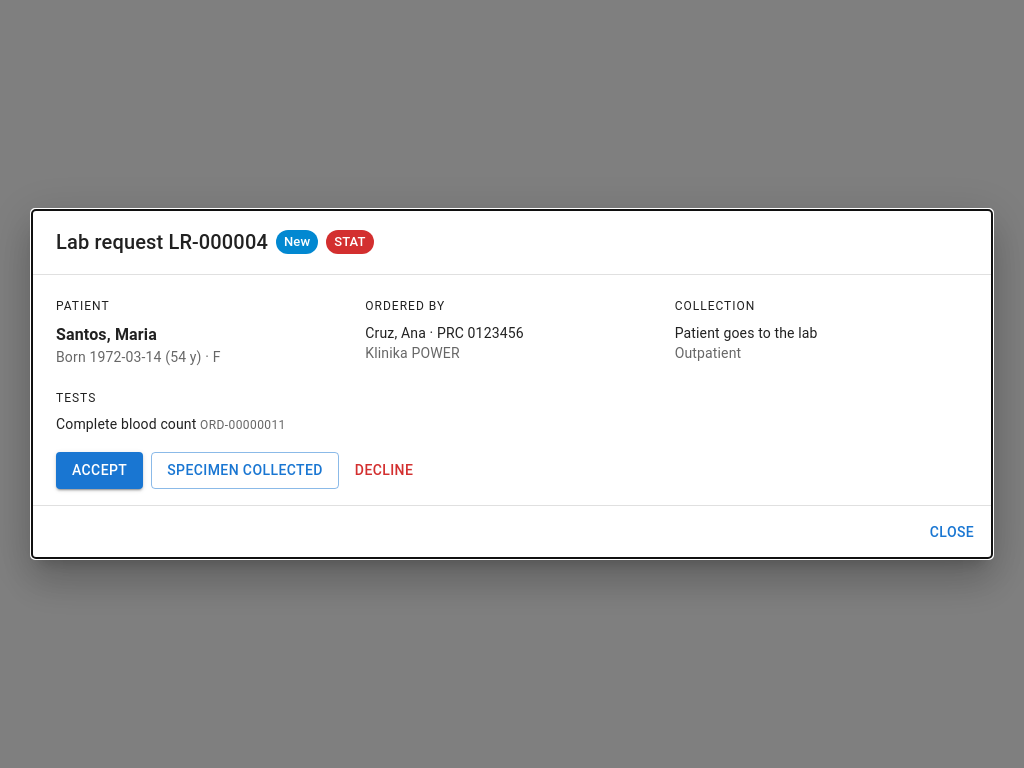
a lab request › a new request can be accepted, collected or declined
Expected: the button with test id "lab-collect" is shown, [151, 452, 339, 489]
Click the button with test id "lab-accept".
click(100, 471)  # box [56, 452, 143, 489]
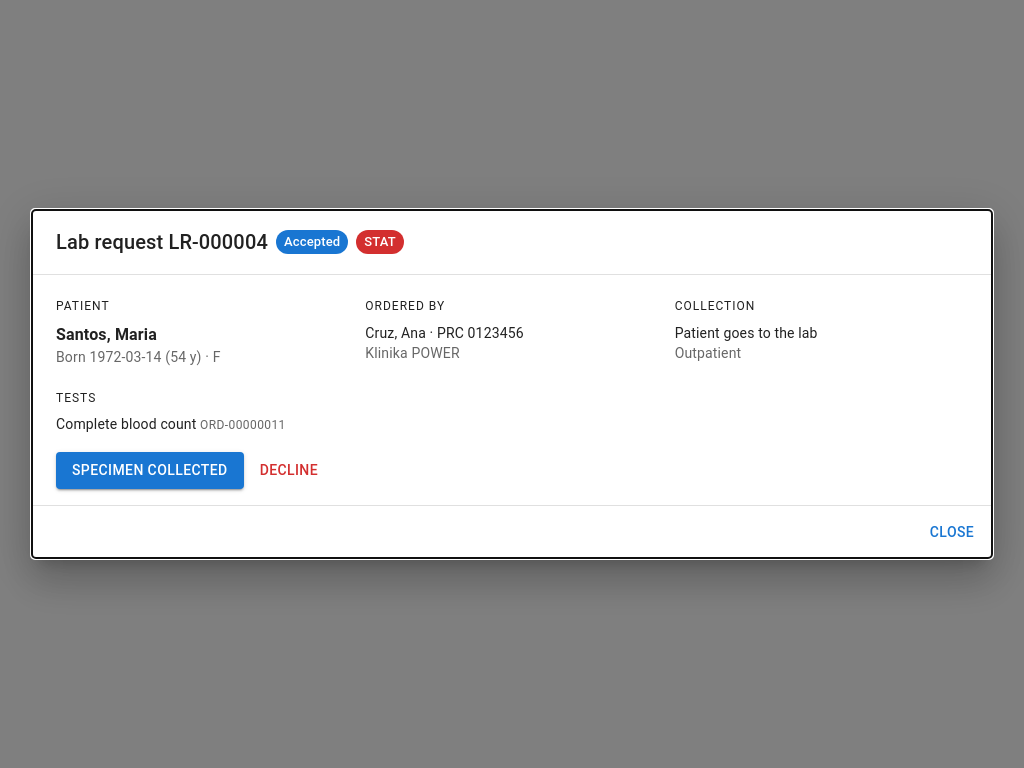
Expected: the element with test id "lab-request-status" reads "Accepted", [284, 234, 340, 249]
